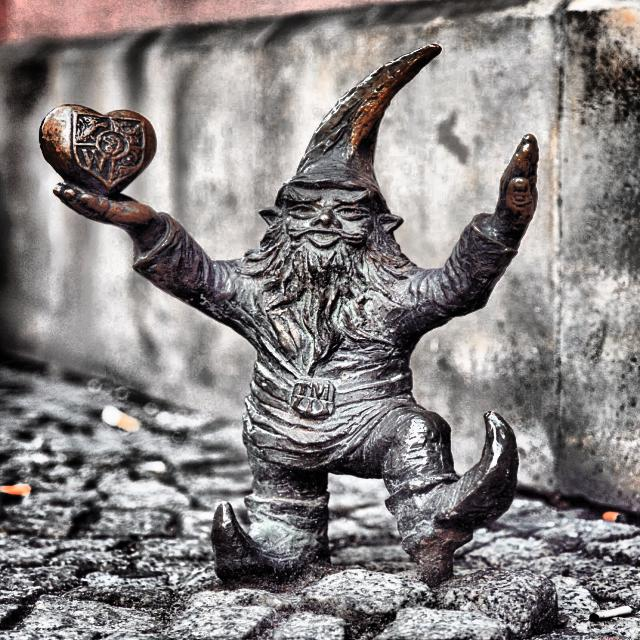WrocLovek: (38, 36, 550, 580)
